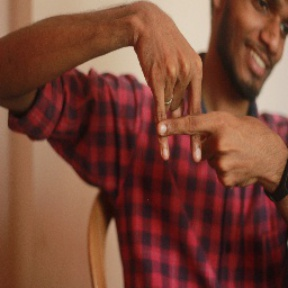H: (144, 67, 225, 186)
